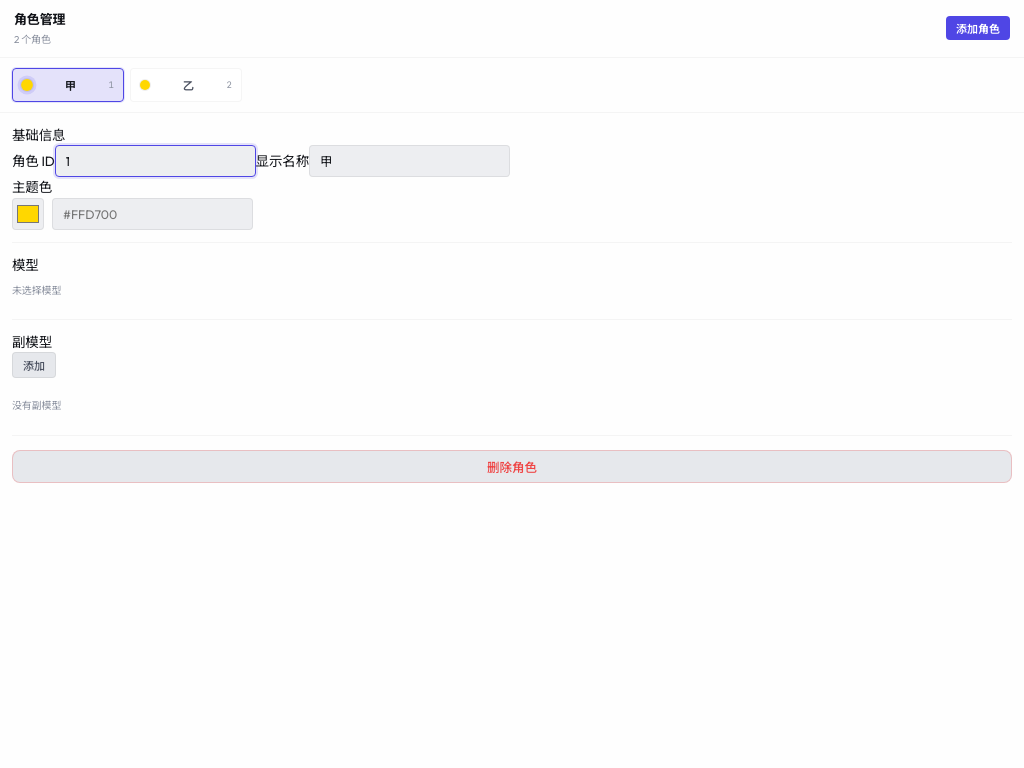
CharacterDirectoryPanel character id input › resets the id draft and the error when switching characters mid-edit
Step 1. Replace the text in the field with test id "character-id-input" with "2" → (155, 161), box [55,145,256,177]
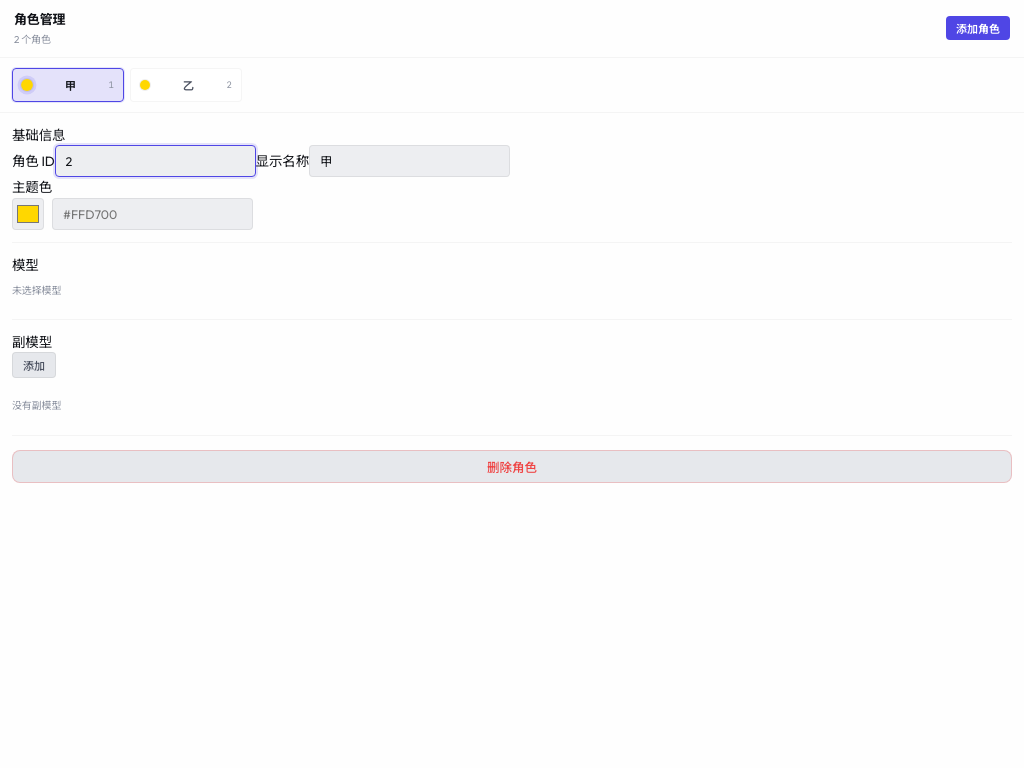
Step 2. Leave the field with test id "character-id-input", box [55,145,256,177]
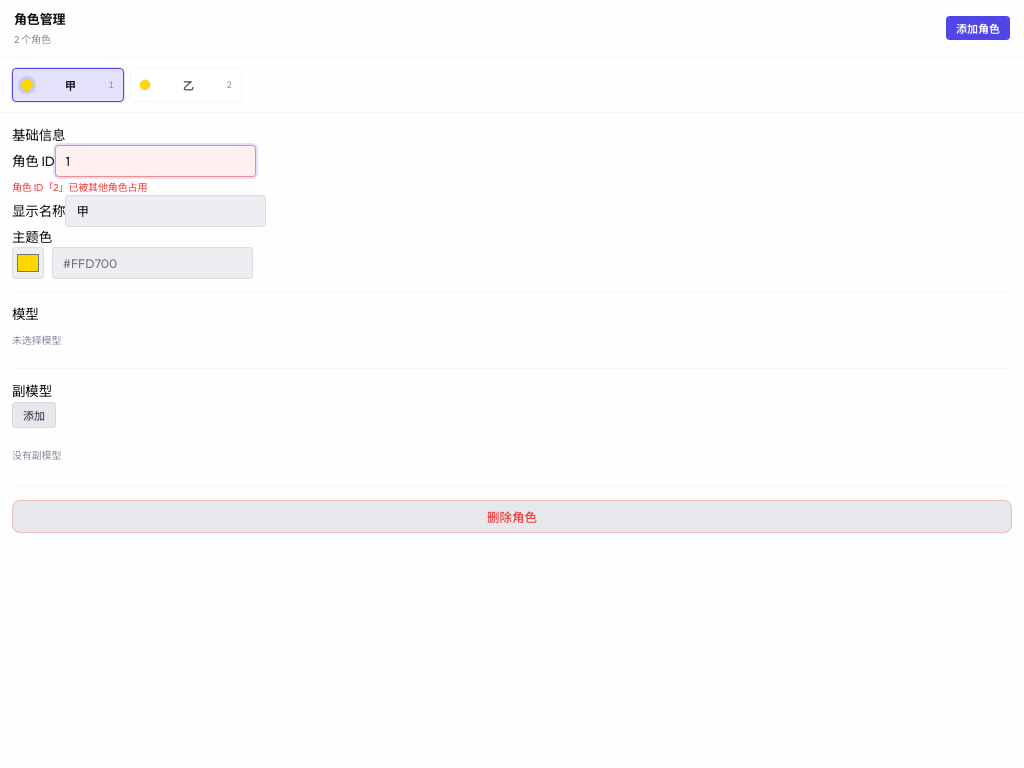
Result: the message shows "已被其他角色占用" at [12,181,147,194]
Result: the field with test id "character-id-input" holds "1" at [55,145,256,177]
Step 3. Click the option with test id "character-list-item" showing "乙 2" → (186, 84), box [130,68,242,102]
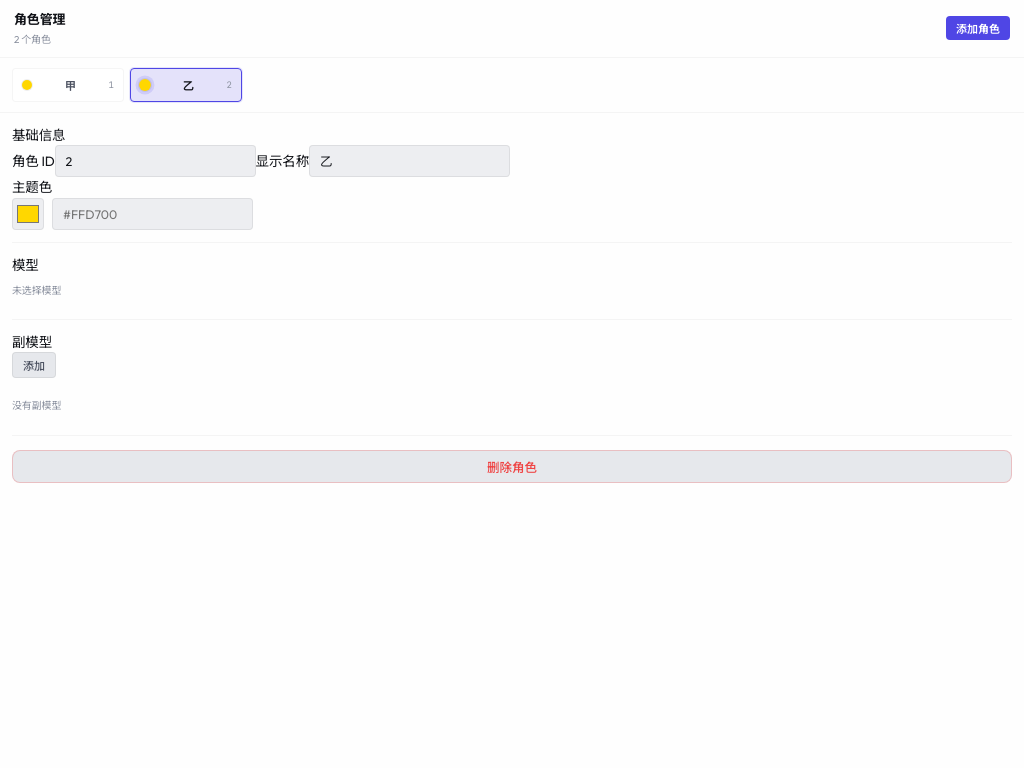
Result: the field with test id "character-id-input" holds "2" at [55,145,256,177]
Result: the message "角色 ID「2」已被其他角色占用" is gone
